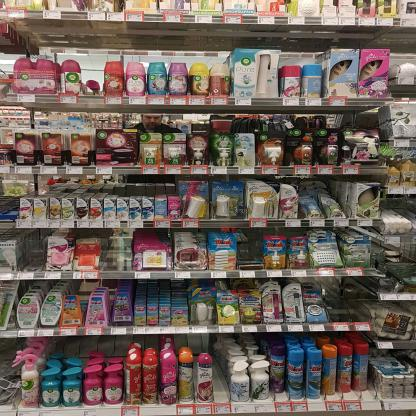Void: (327, 288, 364, 320), (24, 239, 44, 271), (215, 359, 229, 404), (242, 234, 260, 259)
